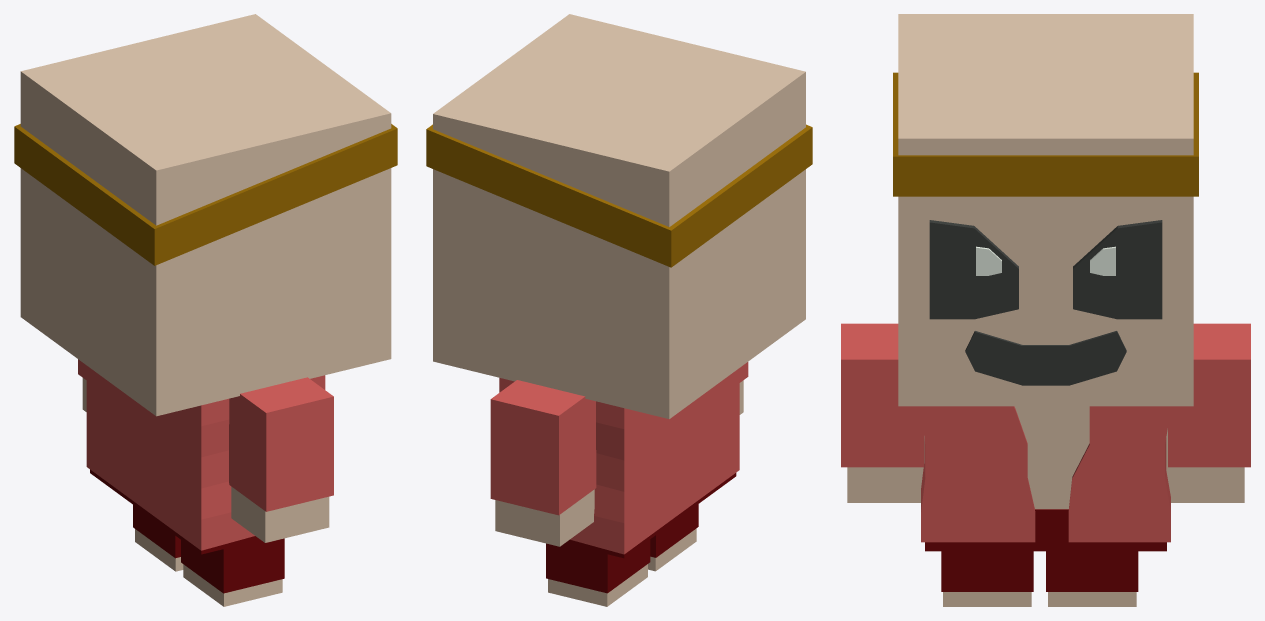
Rendered from Character_Pirate.fbx.
3 renders of one model, left to right at view 1: azimuth 30°, elevation 25°; view 2: azimuth 150°, elevation 25°; view 3: azimuth 270°, elevation 25°, orthographic. The views are drawn at different scales.
Parts seen in each view (by area): view 1: Cube, Cube.017, Cube.021, Cube.020, Cube.018, Cube.004, Cube.002, Cube.001, Cube.003; view 2: Cube, Cube.017, Cube.021, Cube.019, Cube.018, Cube.005, Cube.003, Cube.001, Cube.002; view 3: Cube, Cube.017, Cube.021, Cube.015, Cube.019, Cube.020, Cube.018, Cube.016, Cube.023, Cube.001, Cube.005, Cube.004 (+3 smaller).
Part boxes in pixels (x1=…): Cube: x1=20, y1=14, x2=391, y2=416; Cube.017: x1=86, y1=366, x2=325, y2=550; Cube.021: x1=14, y1=124, x2=397, y2=265; Cube.020: x1=229, y1=377, x2=333, y2=511; Cube.018: x1=133, y1=505, x2=284, y2=593; Cube.004: x1=231, y1=486, x2=329, y2=542; Cube.002: x1=183, y1=564, x2=282, y2=606; Cube.001: x1=90, y1=469, x2=260, y2=554; Cube.003: x1=135, y1=529, x2=183, y2=571; Cube: x1=433, y1=14, x2=805, y2=418; Cube.017: x1=499, y1=368, x2=739, y2=554; Cube.021: x1=426, y1=124, x2=812, y2=267; Cube.019: x1=490, y1=380, x2=596, y2=515; Cube.018: x1=546, y1=504, x2=698, y2=593; Cube.005: x1=495, y1=489, x2=594, y2=546; Cube.003: x1=548, y1=564, x2=647, y2=606; Cube.001: x1=564, y1=473, x2=736, y2=558; Cube.002: x1=648, y1=528, x2=696, y2=571; Cube: x1=898, y1=14, x2=1193, y2=406; Cube.017: x1=921, y1=406, x2=1170, y2=542; Cube.021: x1=893, y1=72, x2=1198, y2=196; Cube.015: x1=929, y1=220, x2=1162, y2=319; Cube.019: x1=1168, y1=323, x2=1250, y2=467; Cube.020: x1=841, y1=323, x2=923, y2=467; Cube.018: x1=941, y1=551, x2=1138, y2=591; Cube.016: x1=965, y1=331, x2=1126, y2=385; Cube.023: x1=1014, y1=406, x2=1089, y2=509; Cube.001: x1=925, y1=509, x2=1166, y2=551; Cube.005: x1=1166, y1=428, x2=1244, y2=502; Cube.004: x1=847, y1=436, x2=924, y2=502.
Bounding box in the file's own units: 209 × 385 × 277.
